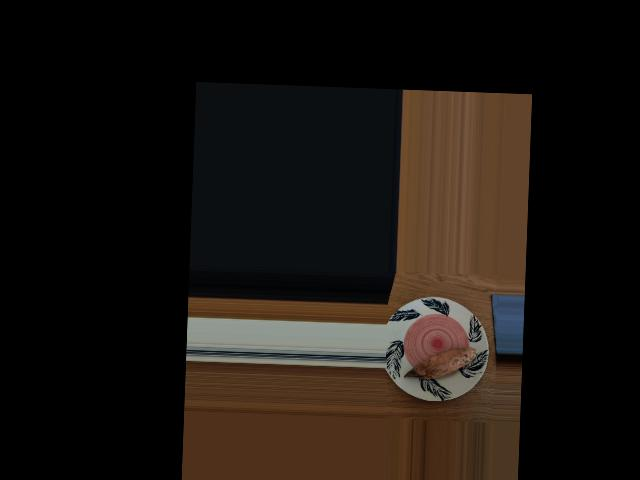sweet_potato: (411, 342, 472, 381)
